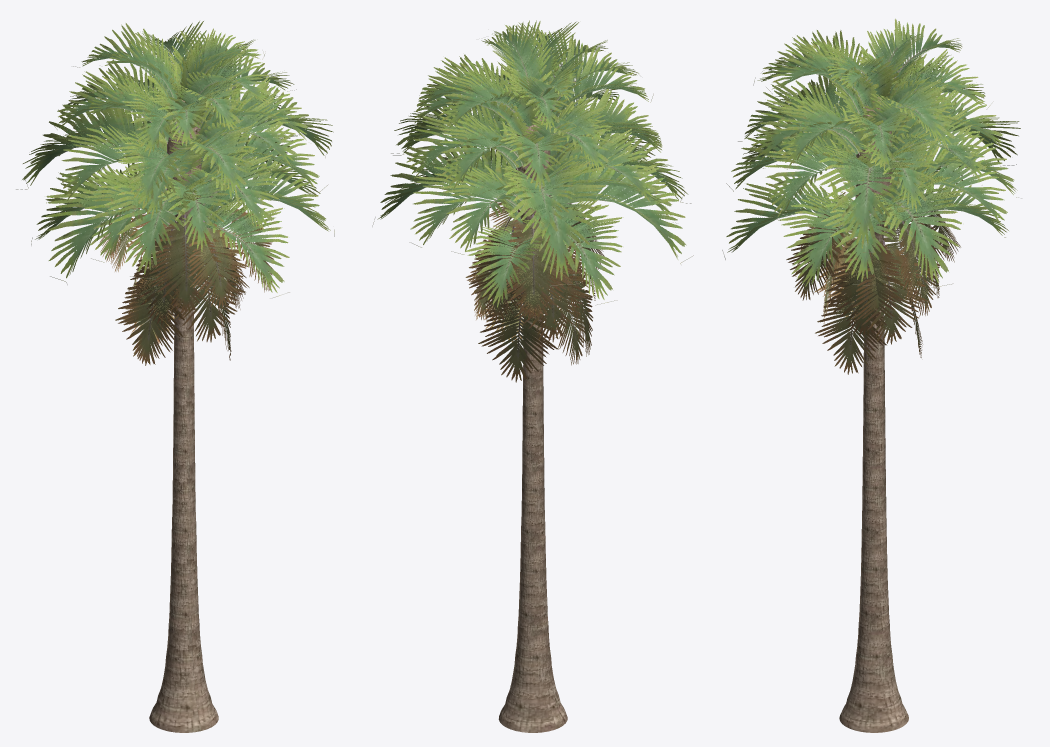
Rendered from palm-tall.lod0.glb.
3 views of the same model, side by side, from view 1: azimuth 30°, elevation 25°; view 2: azimuth 150°, elevation 25°; view 3: azimuth 270°, elevation 25° (orthographic).
Parts seen in each view (by area): view 1: Tree_1_Palm_4_Leaf_0, Tree_1_Plam_4_Trunk_0; view 2: Tree_1_Palm_4_Leaf_0, Tree_1_Plam_4_Trunk_0; view 3: Tree_1_Palm_4_Leaf_0, Tree_1_Plam_4_Trunk_0.
Boxes of the visible parts, x1,y1,x2,y2 form: Tree_1_Palm_4_Leaf_0: [16, 21, 334, 365]; Tree_1_Plam_4_Trunk_0: [149, 100, 218, 732]; Tree_1_Palm_4_Leaf_0: [372, 20, 693, 382]; Tree_1_Plam_4_Trunk_0: [498, 115, 567, 732]; Tree_1_Palm_4_Leaf_0: [722, 18, 1021, 374]; Tree_1_Plam_4_Trunk_0: [839, 97, 908, 732].
Bounding box in the file's own units: 6.16 × 14 × 5.79.
2 materials, 2 textured.
